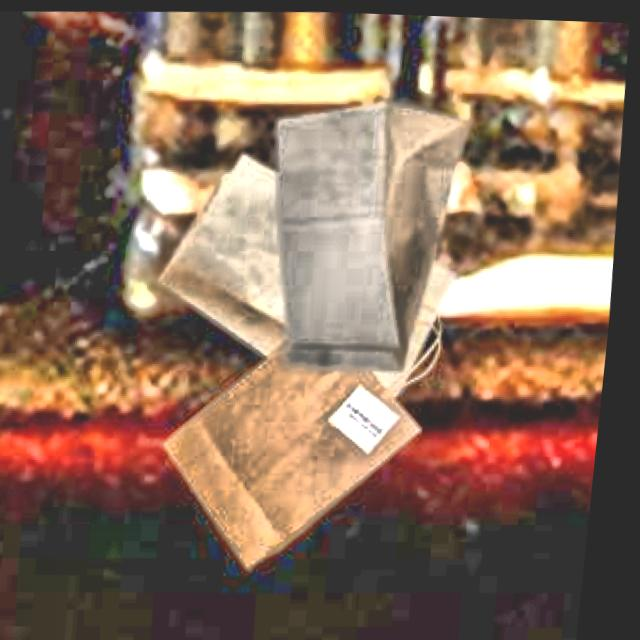Paper-bag: (129, 127, 472, 417), (143, 322, 466, 569), (235, 67, 466, 355)
